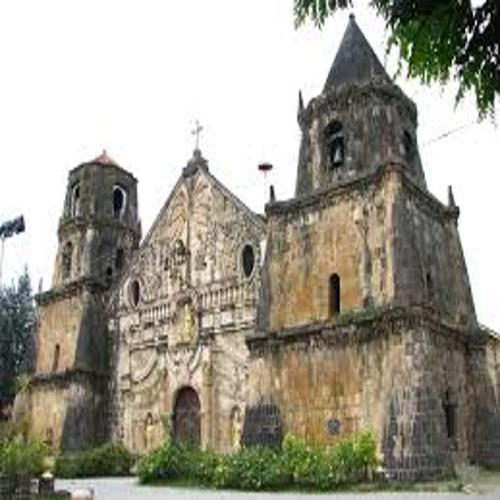Miagao Church: (30, 19, 484, 472)
